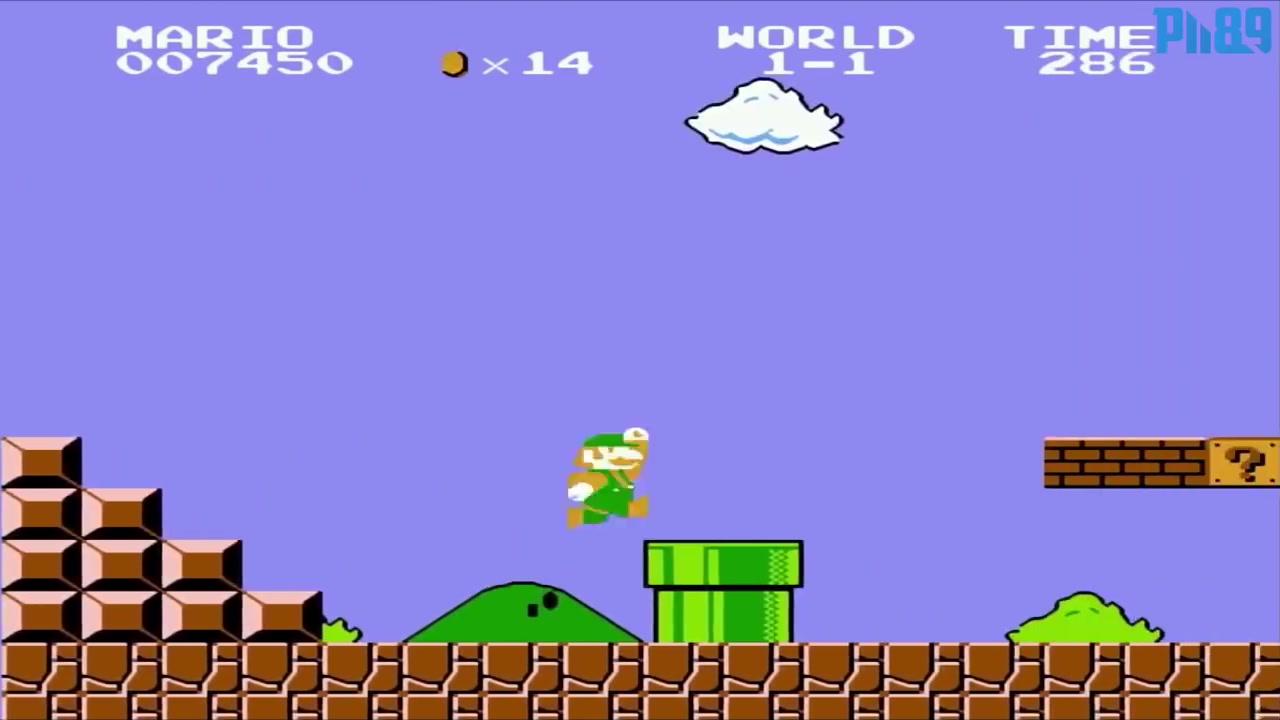mario: (566, 420, 665, 527)
